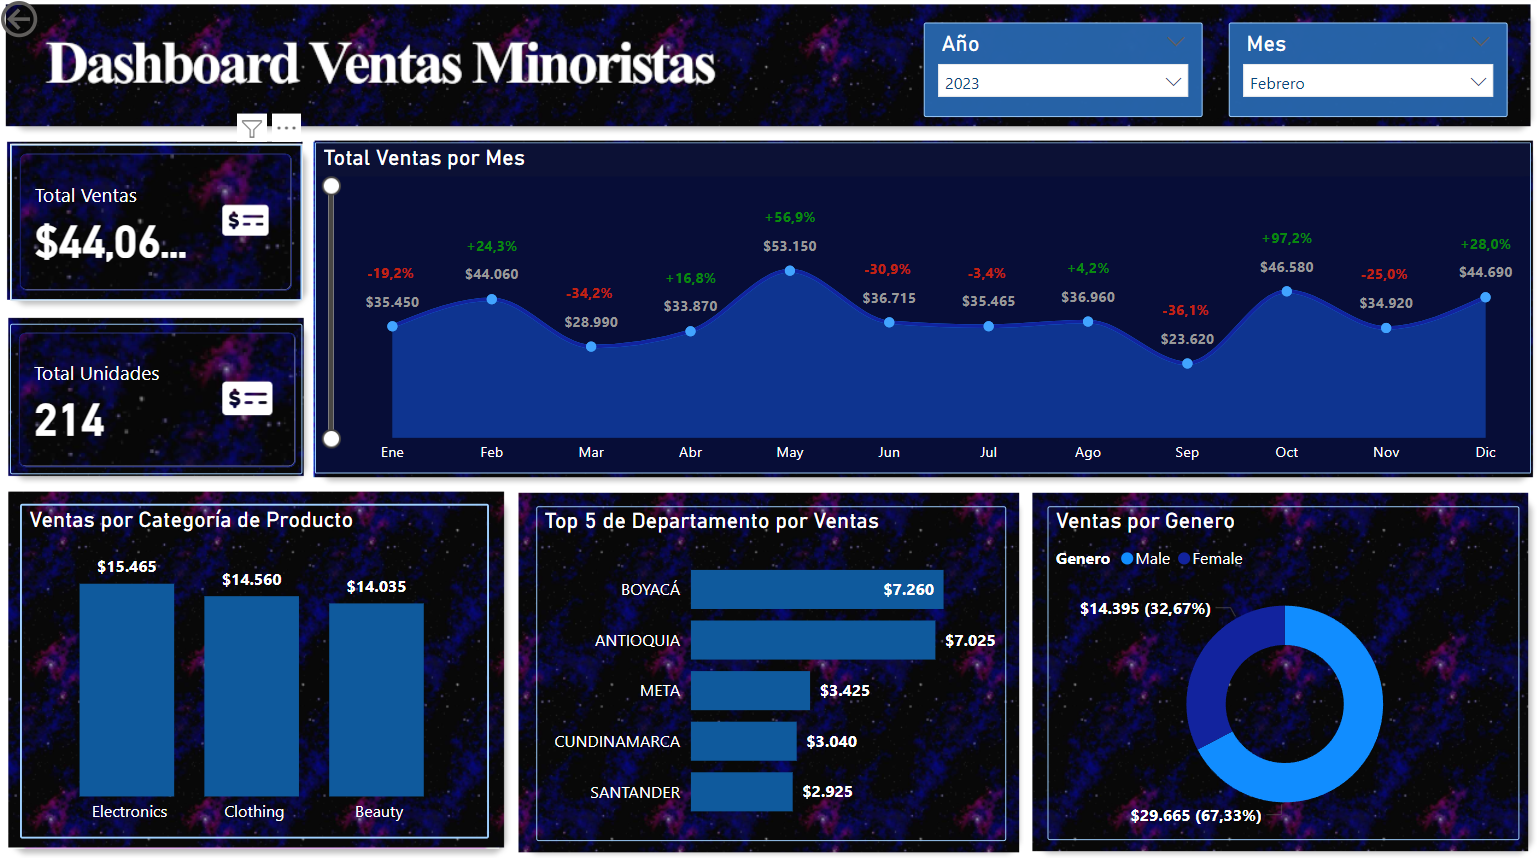

This screenshot's page, from the dashboard's own definition file:
{"tool":"powerbi","page":{"name":"Página 1","canvas":[1280,720],"ordinal":0},"visuals":[{"type":"cardVisual","fields":{"Data":["Medidas.Total Ventas"]},"box":[12.3,123.1,242.3,130.8],"z":0},{"type":"clusteredBarChart","title":"Top 5 de Departamento por Ventas","fields":{"Category":["Clientes.Departamento"],"Y":["Medidas.Total Ventas"]},"box":[448.2,423.3,389.7,277.7],"z":1000},{"type":"cardVisual","fields":{"Data":["Medidas.Total Unidades"]},"box":[12.3,272.3,242.3,124.6],"z":2000},{"type":"slicer","fields":{"Values":["Calendario.Nombre del mes"]},"box":[1022.5,22.5,231.2,78.8],"z":3000},{"type":"areaChart","title":"Total Ventas por Mes","fields":{"Category":["Calendario.Mes Abreviado"],"Y":["Medidas.Total Ventas","Medidas.Total Ventas Rotulo"]},"box":[265.5,122.7,1008.2,274.5],"z":4000},{"type":"clusteredColumnChart","title":"Ventas por Categoría de Producto","fields":{"Category":["Ventas_Minoristas.Categoria Producto"],"Y":["Medidas.Total Ventas"]},"box":[21.2,422.1,388.5,277.7],"z":5000},{"type":"donutChart","title":"Ventas por Genero","fields":{"Category":["Ventas_Minoristas.Genero"],"Y":["Medidas.Total Ventas"]},"box":[872.8,423.3,391,276.4],"z":6000},{"type":"slicer","fields":{"Values":["Calendario.Año"]},"box":[770,22.5,231.2,78.8],"z":7000},{"type":"actionButton","box":[0,0,100,40],"z":8000}]}

Visuals, with their boxes in screenshot pixels (x1, y1, x2, y2), scaled from the page's 1280x720 canvas onto the 1537x858 screenshot:
cardVisual - Medidas.Total Ventas: x1=15 y1=147 x2=306 y2=303
"Top 5 de Departamento por Ventas" clusteredBarChart: x1=538 y1=504 x2=1006 y2=835
cardVisual - Medidas.Total Unidades: x1=15 y1=324 x2=306 y2=473
slicer - Calendario.Nombre del mes: x1=1228 y1=27 x2=1505 y2=121
"Total Ventas por Mes" areaChart: x1=319 y1=146 x2=1529 y2=473
"Ventas por Categoría de Producto" clusteredColumnChart: x1=25 y1=503 x2=492 y2=834
"Ventas por Genero" donutChart: x1=1048 y1=504 x2=1518 y2=834
slicer - Calendario.Año: x1=925 y1=27 x2=1202 y2=121
actionButton: x1=0 y1=0 x2=120 y2=48
